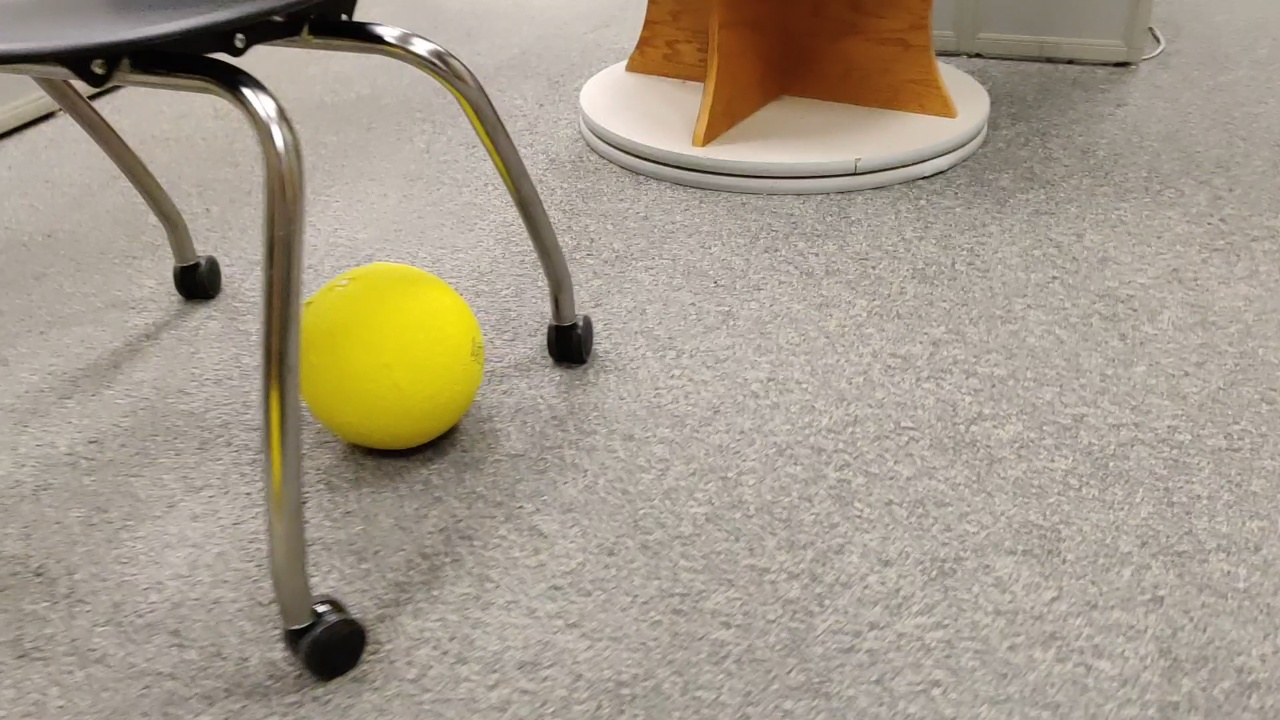Ball: (291, 261, 488, 450)
